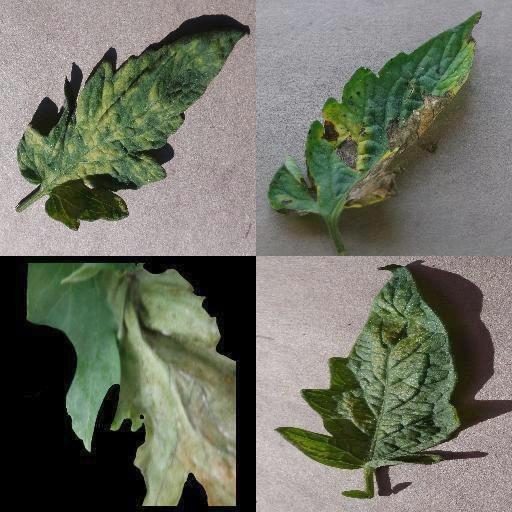Early Blight: (268, 11, 482, 217)
Late Blight: (27, 265, 235, 507)
Leaf Mold: (17, 23, 250, 231)
Spider Mites: (274, 263, 460, 471)
